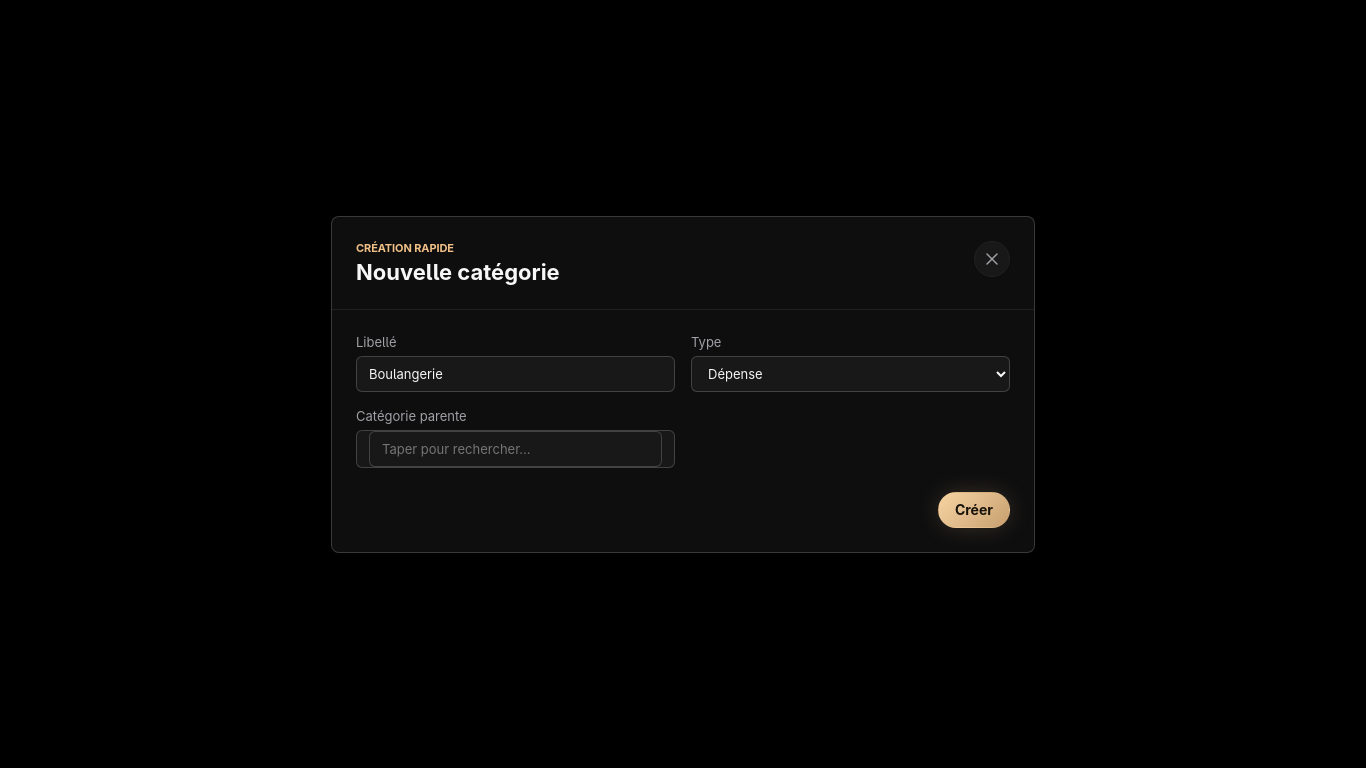
Scenario: QuickCategoryDialog › keeps the dialog open after a network failure
Click the button "Créer". click: x=974, y=510
box: x1=938 y1=492 x2=1010 y2=528
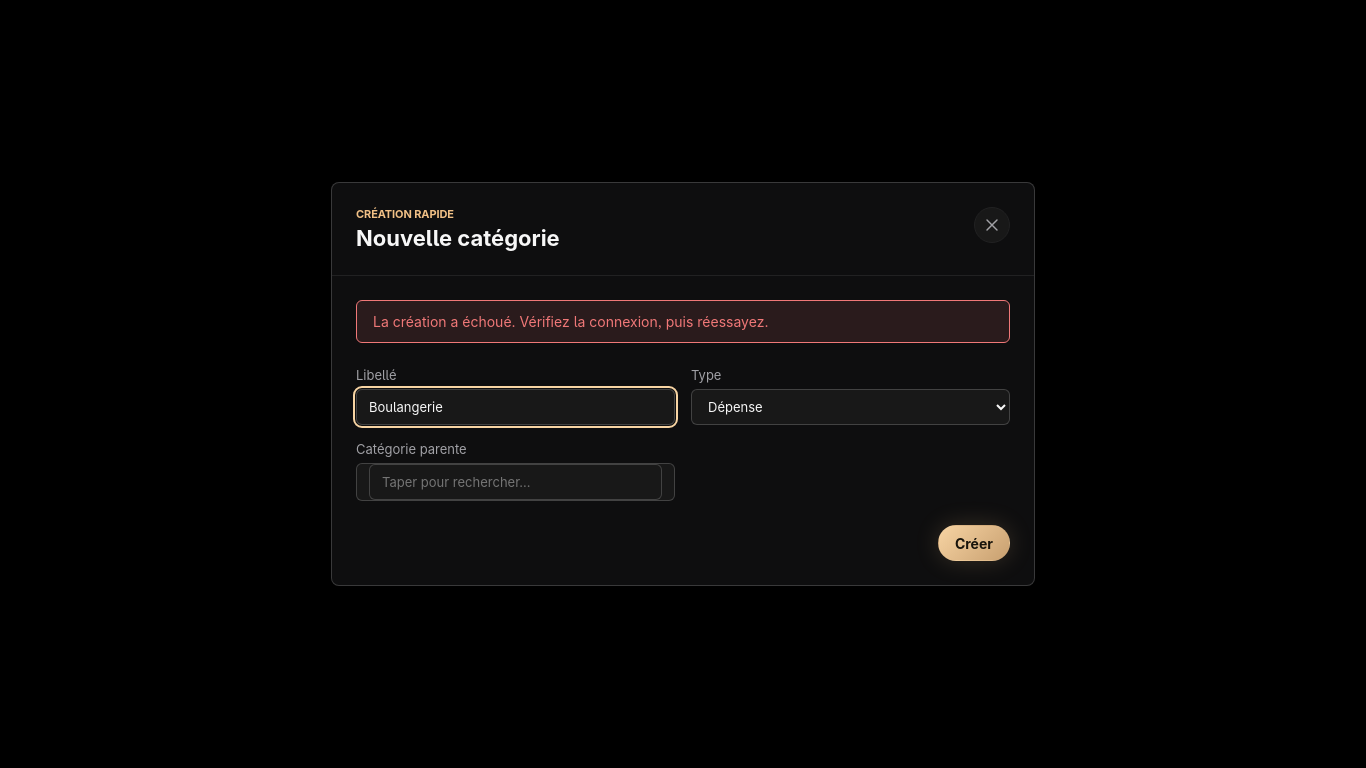
expect the dialog "Nouvelle catégorie" is shown: met, box x1=331 y1=182 x2=1035 y2=586
expect the message shows "Vérifiez la connexion": met, box x1=373 y1=313 x2=768 y2=330
